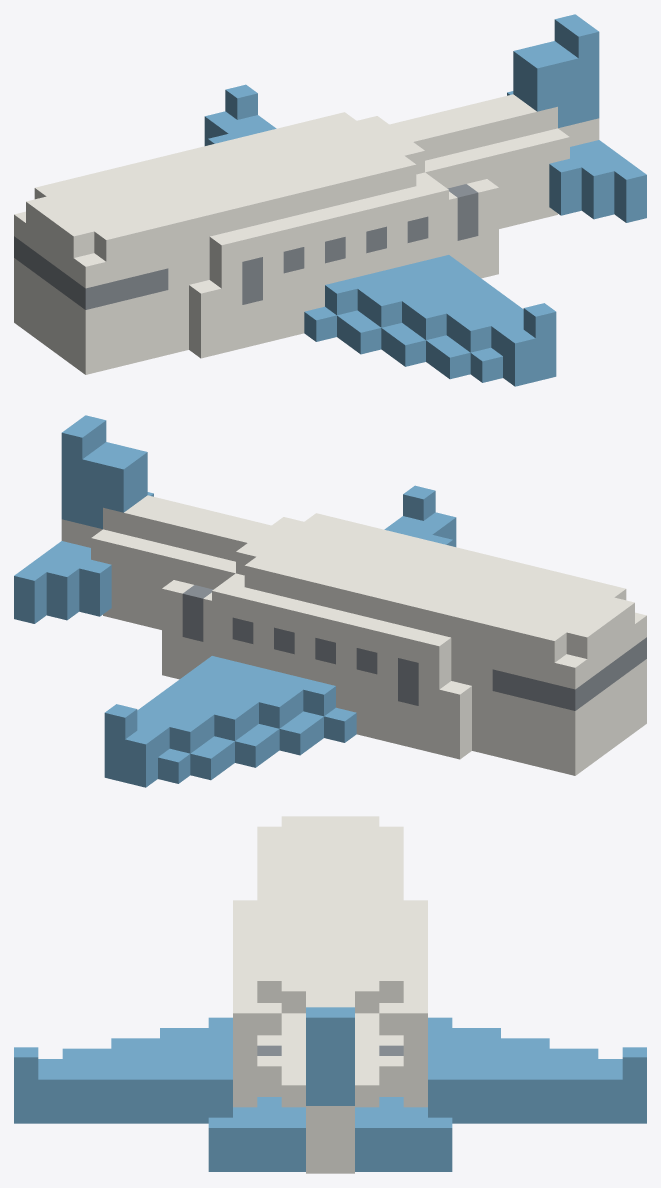
Rendered from 210516shipandplane-0.obj.
The picture shows the model from 3 angles, top to bottom: view 1: azimuth 30°, elevation 25°; view 2: azimuth 150°, elevation 25°; view 3: azimuth 270°, elevation 25°; orthographic projection.
Size of the model in its own units: 2.6 by 0.9 by 2.6.
Materials: 1 (1 with a texture image).
